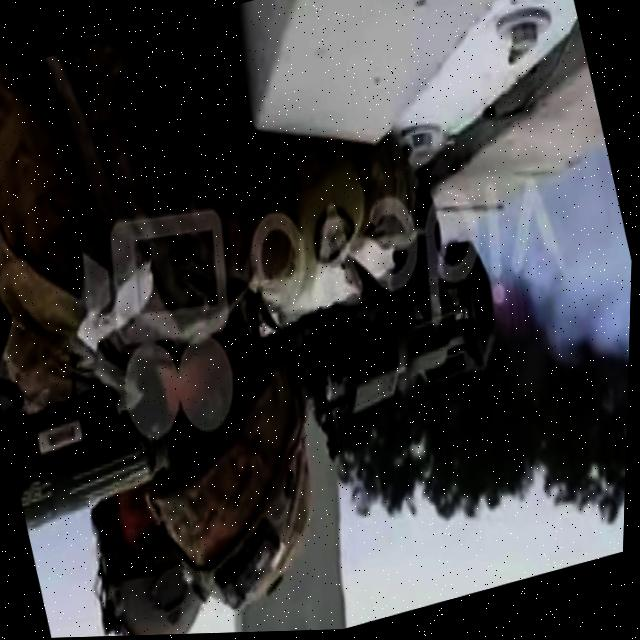rocket: (0, 160, 551, 601)
